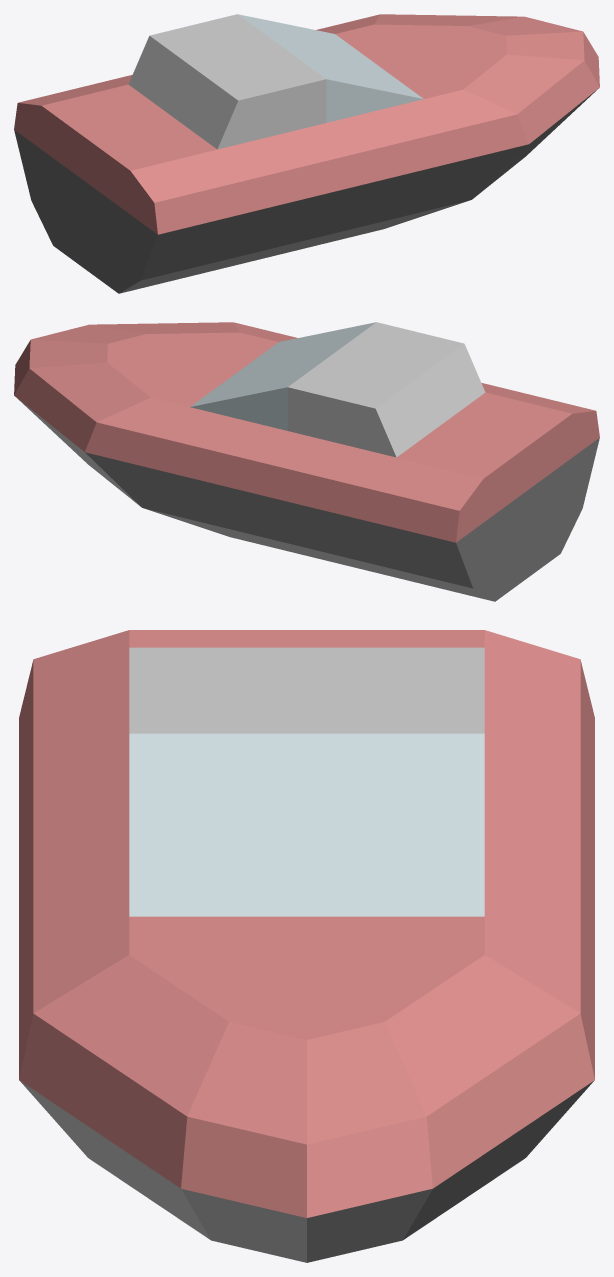
The model's file is Speedboat.fbx.
3 renders of one model, top to bottom at view 1: azimuth 30°, elevation 25°; view 2: azimuth 150°, elevation 25°; view 3: azimuth 270°, elevation 25°, orthographic. The views are drawn at different scales.
Parts seen in each view (by area): view 1: watercraftPack_019:polySurface1; view 2: watercraftPack_019:polySurface1; view 3: watercraftPack_019:polySurface1.
Boxes of the visible parts, bbox=[...] form: watercraftPack_019:polySurface1: bbox=[14, 14, 599, 293]; watercraftPack_019:polySurface1: bbox=[14, 322, 599, 601]; watercraftPack_019:polySurface1: bbox=[19, 630, 594, 1262].
Bounding box in the file's own units: 3.67 × 1.2 × 1.79.
